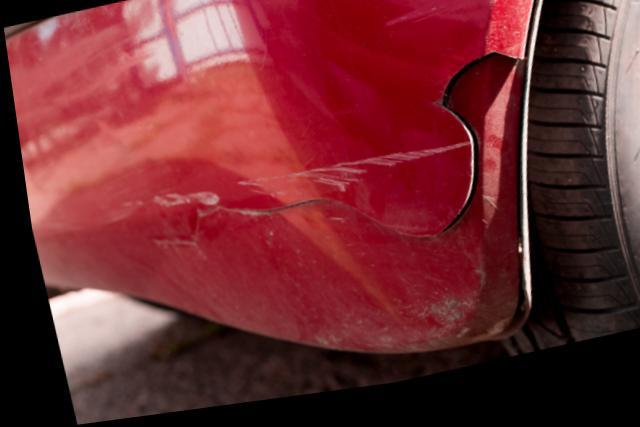crack: (189, 64, 518, 251)
scratch: (114, 150, 463, 211)
